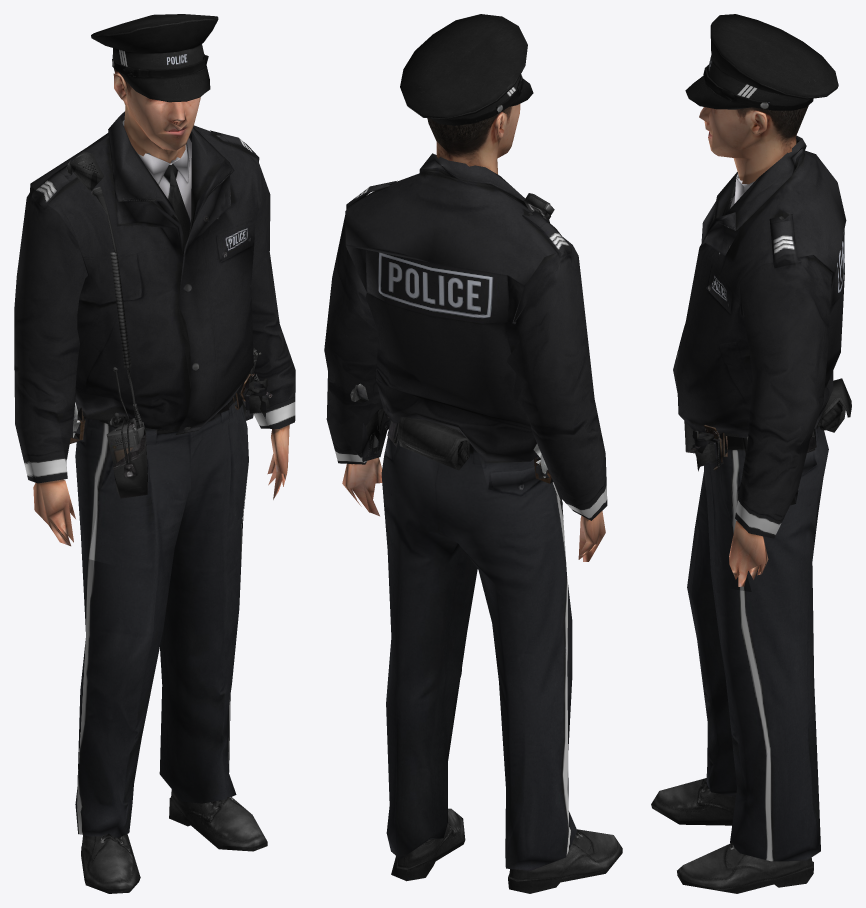
File: PoliceOfficer_Standing_LOD1.obj
3 views of the same model, side by side, from view 1: azimuth 30°, elevation 25°; view 2: azimuth 150°, elevation 25°; view 3: azimuth 270°, elevation 25° (orthographic).
Visible parts, largest first — view 1: Body, Head, Equipment; view 2: Body, Head, Equipment; view 3: Body, Head, Equipment.
Part boxes in pixels (x1,y1,x2,y2): Body: (14,111,295,893); Head: (91,14,218,163); Equipment: (66,151,272,498); Body: (324,153,622,893); Head: (400,14,533,174); Equipment: (361,193,554,483); Body: (651,135,846,893); Head: (685,14,838,184); Equipment: (684,378,851,505).
Bounding box in the file's own units: 0.6233 × 1.85 × 0.4053.
Materials: 4 (4 with a texture image).
